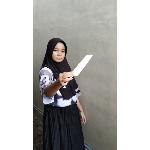Pisau: (62, 54, 94, 88)
